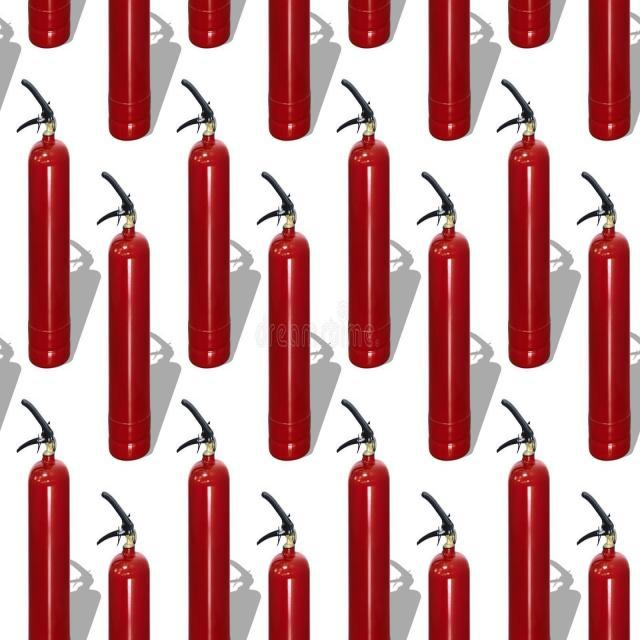FireExtinguisher: (574, 168, 634, 466), (15, 72, 74, 373), (416, 166, 476, 461), (334, 76, 394, 370), (175, 76, 234, 371), (496, 70, 554, 370), (94, 164, 152, 462), (256, 164, 312, 462), (493, 396, 553, 640), (13, 393, 71, 640), (174, 394, 232, 640), (337, 393, 392, 640), (572, 484, 634, 639), (256, 484, 314, 639), (96, 480, 152, 639), (415, 484, 471, 640), (104, 0, 153, 145), (425, 0, 473, 143), (585, 0, 632, 146), (266, 0, 312, 146), (343, 0, 392, 52), (25, 0, 73, 52), (185, 0, 232, 52), (506, 0, 552, 53)
